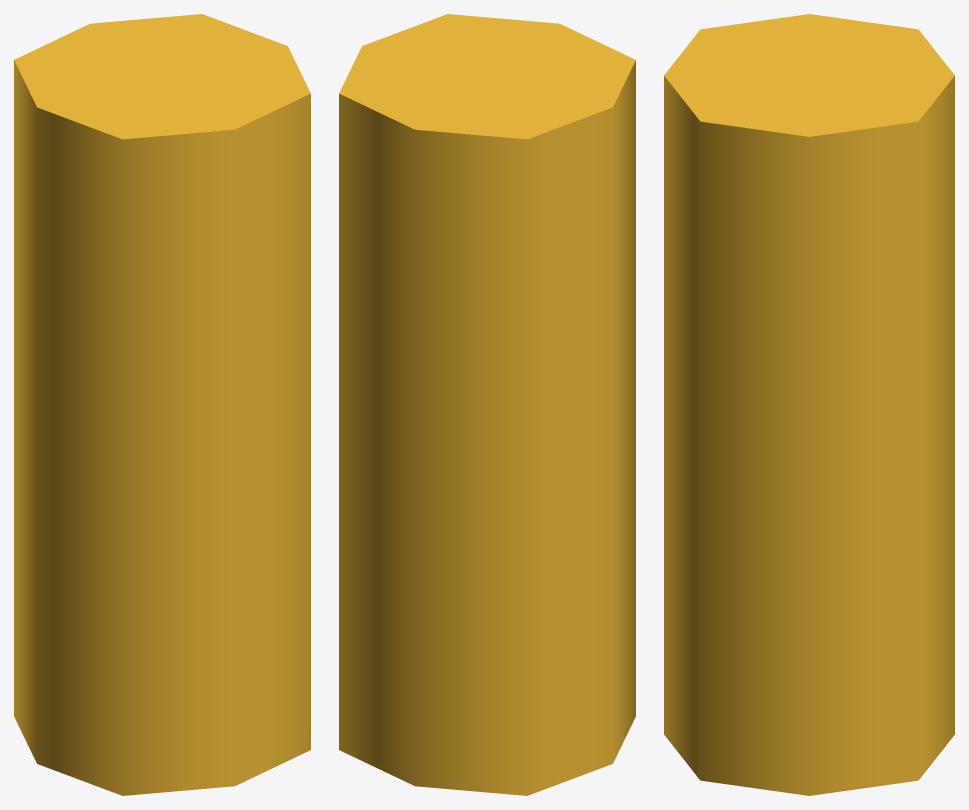
The model's file is foamBulletA-low.glb.
3 renders of one model, left to right at view 1: azimuth 30°, elevation 25°; view 2: azimuth 150°, elevation 25°; view 3: azimuth 270°, elevation 25°, orthographic.
Parts seen in each view (by area): view 1: foamBulletA-low; view 2: foamBulletA-low; view 3: foamBulletA-low.
Part boxes in pixels (bbox=[...]): foamBulletA-low: bbox=[14, 14, 310, 795]; foamBulletA-low: bbox=[339, 14, 635, 795]; foamBulletA-low: bbox=[664, 14, 954, 795].
Size of the model in its own units: 0.02 by 0.05 by 0.02.
